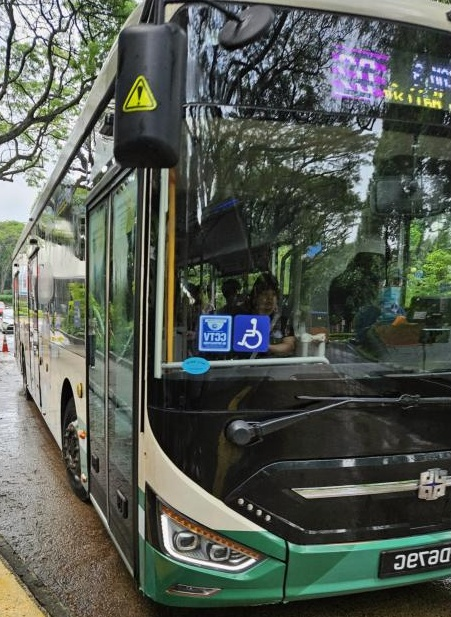bus: (326, 45, 389, 102)
